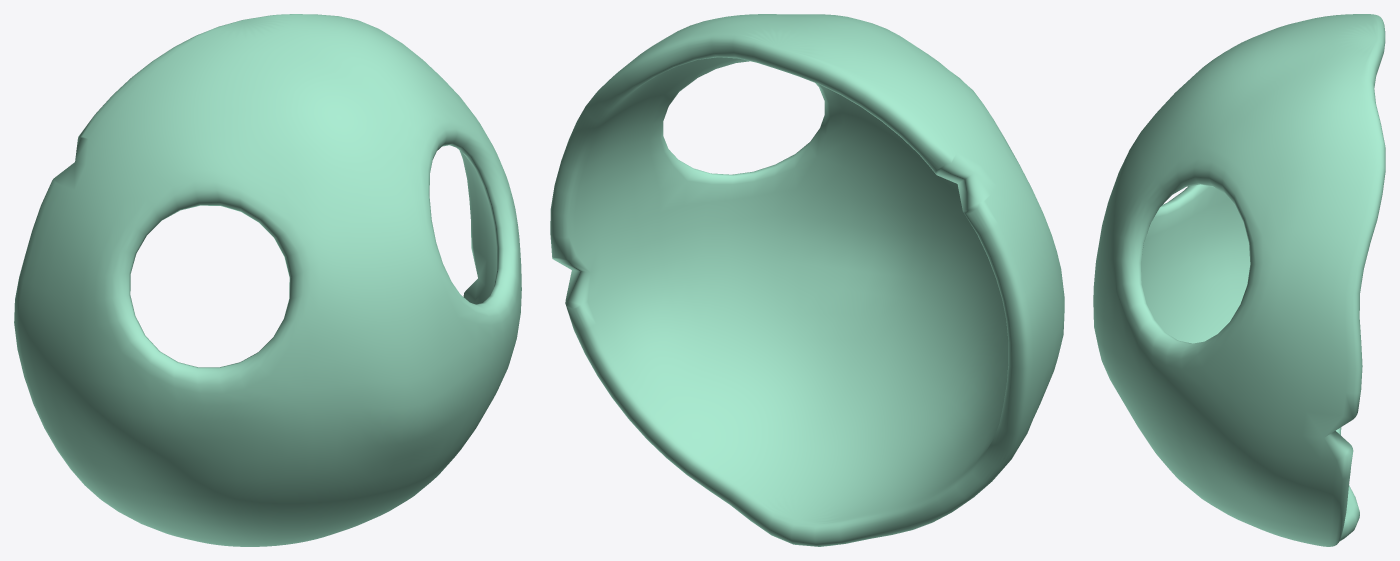
Rendered from DeathMask.fbx.
The picture shows the model from 3 angles, left to right: view 1: azimuth 30°, elevation 25°; view 2: azimuth 150°, elevation 25°; view 3: azimuth 270°, elevation 25°; orthographic projection. The views are drawn at different scales.
Parts seen in each view (by area): view 1: Mask; view 2: Mask; view 3: Mask.
Part boxes in pixels (box(x1,y1,x2,y2)): Mask: box(14, 14, 521, 546); Mask: box(550, 14, 1064, 546); Mask: box(1093, 14, 1385, 546).
Size of the model in its own units: 112 by 112 by 60.93.
